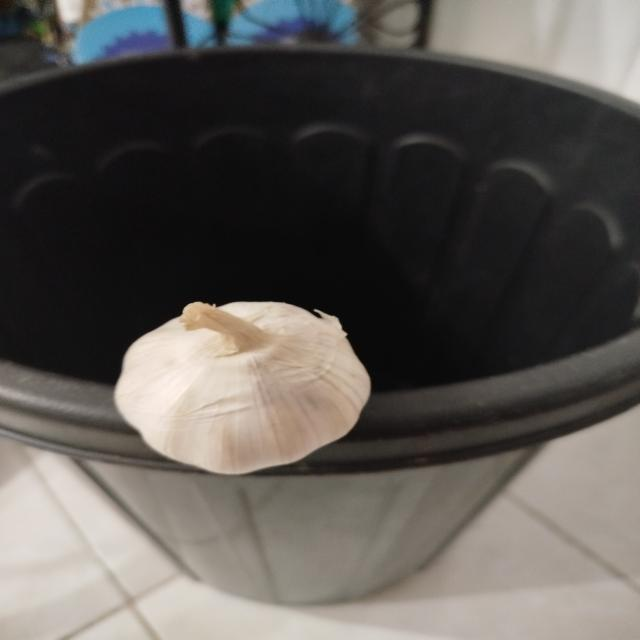garlic: (113, 300, 372, 475)
